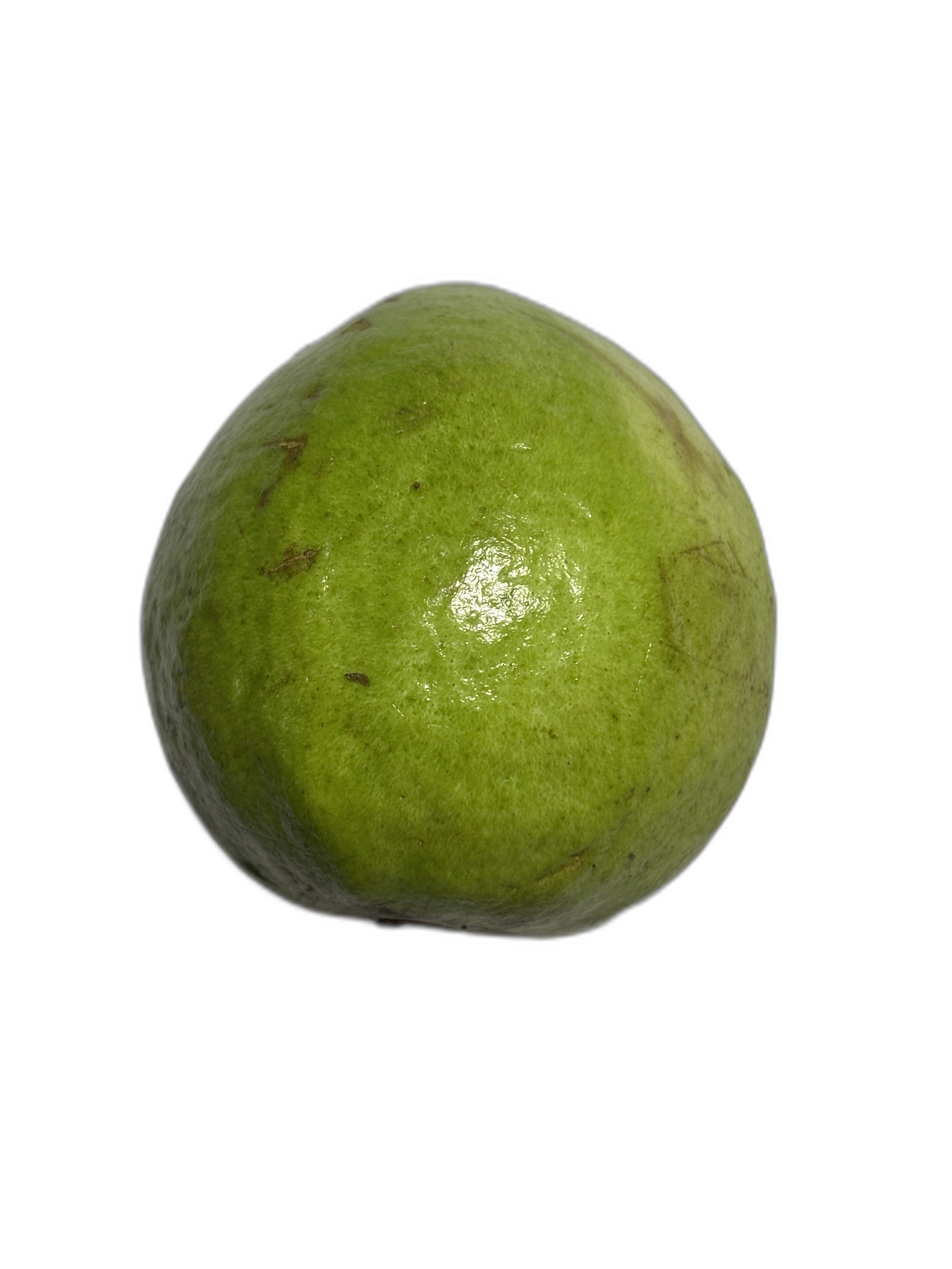guava: (184, 211, 848, 1138)
